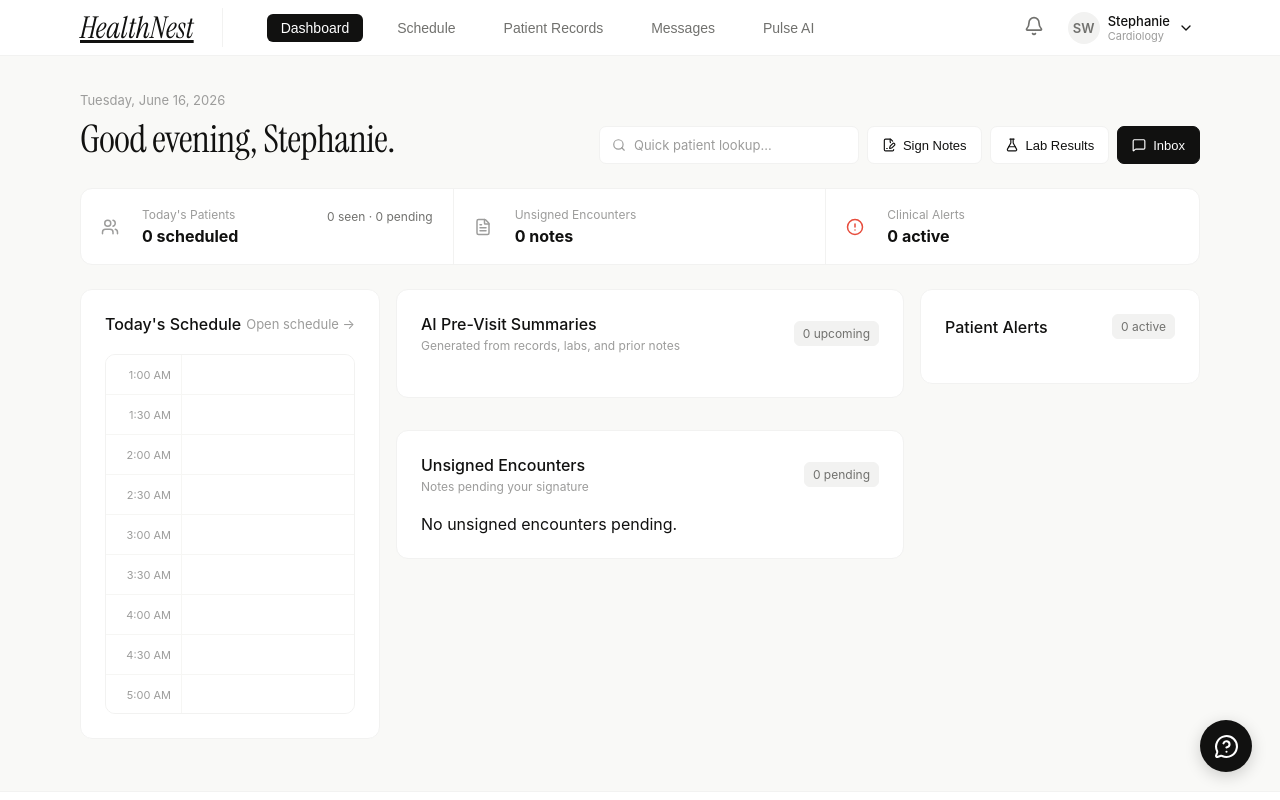
it: DoctorDashboard › selecting a lookup result opens the patient's full chart
(page scrolled)
Type "Alex" into the field labelled "Quick patient lookup".
click(740, 145); type("Alex")  # box [634,137,846,153]
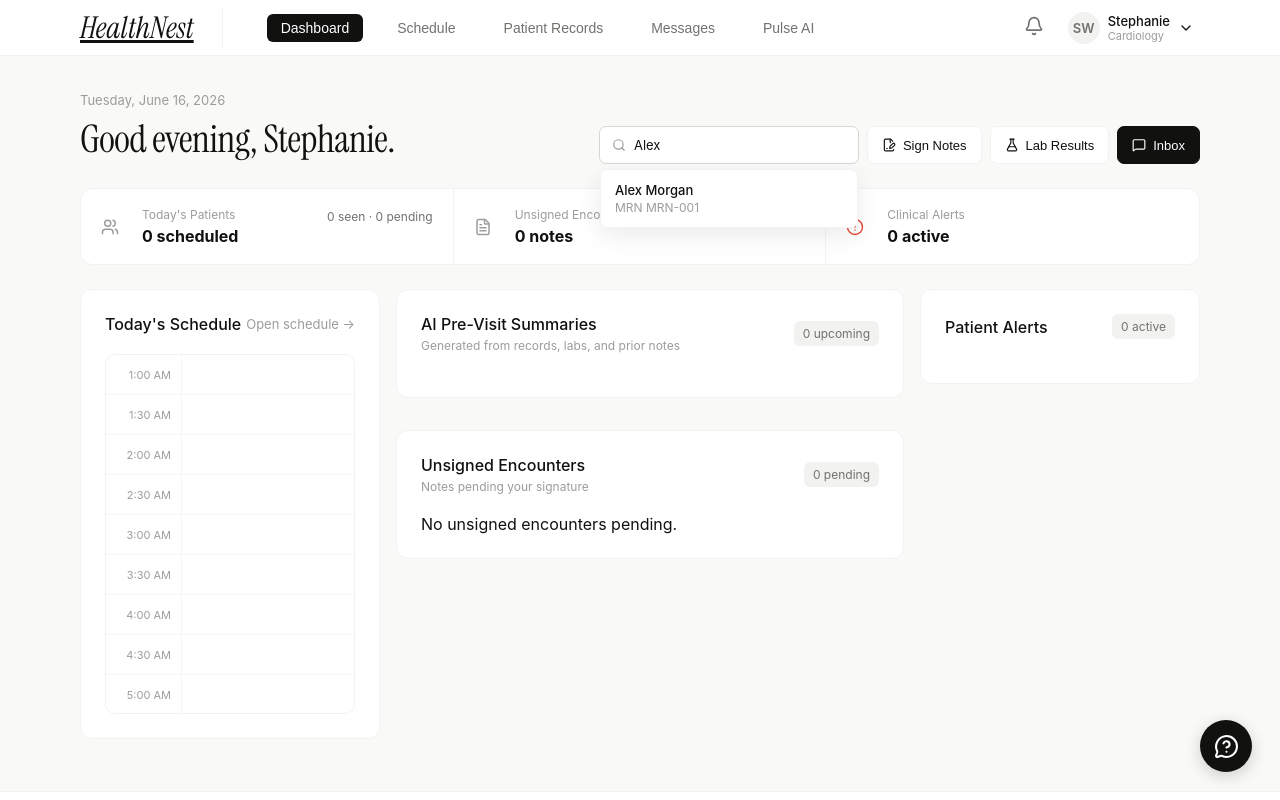
Click the text "Alex Morgan".
click(654, 190)  # box [615,182,693,198]
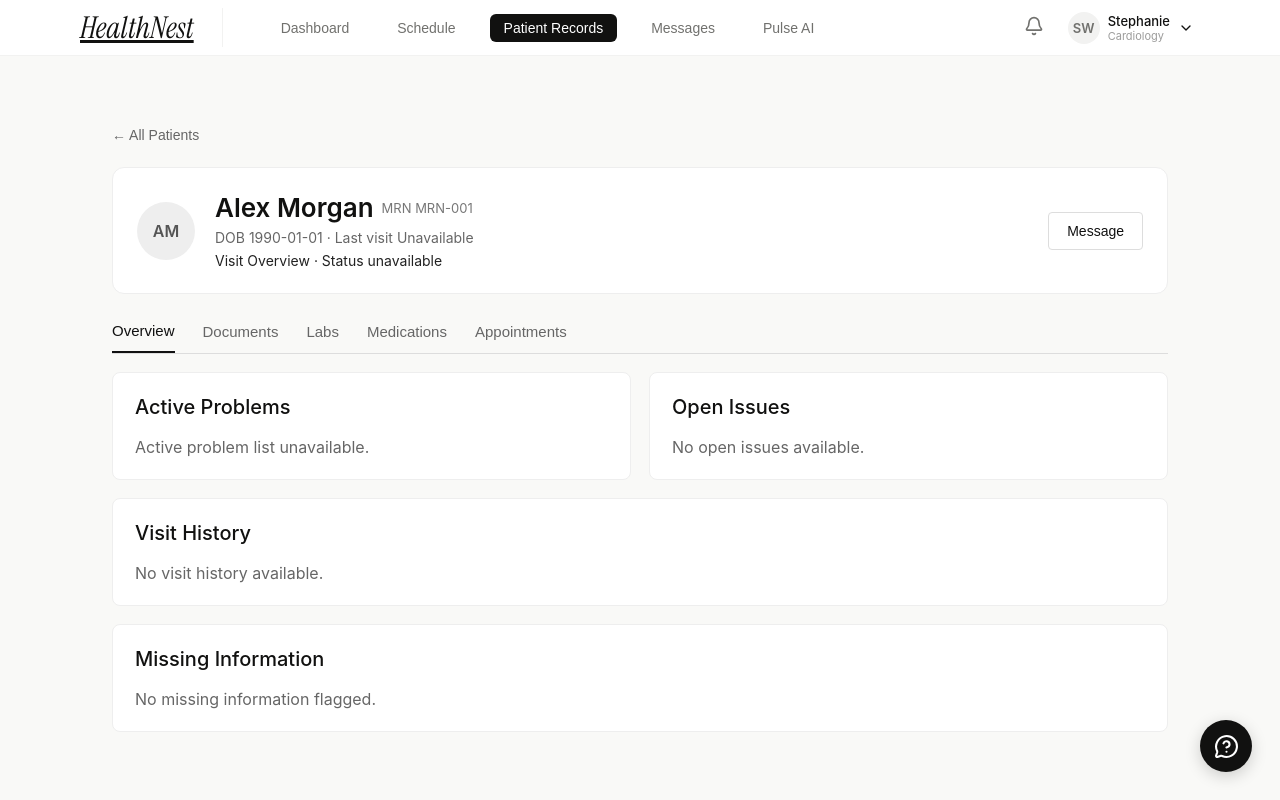
Result: the heading "Alex Morgan" is shown at [215,192,374,223]
Result: the button "← All Patients" is shown at [112,127,199,143]
